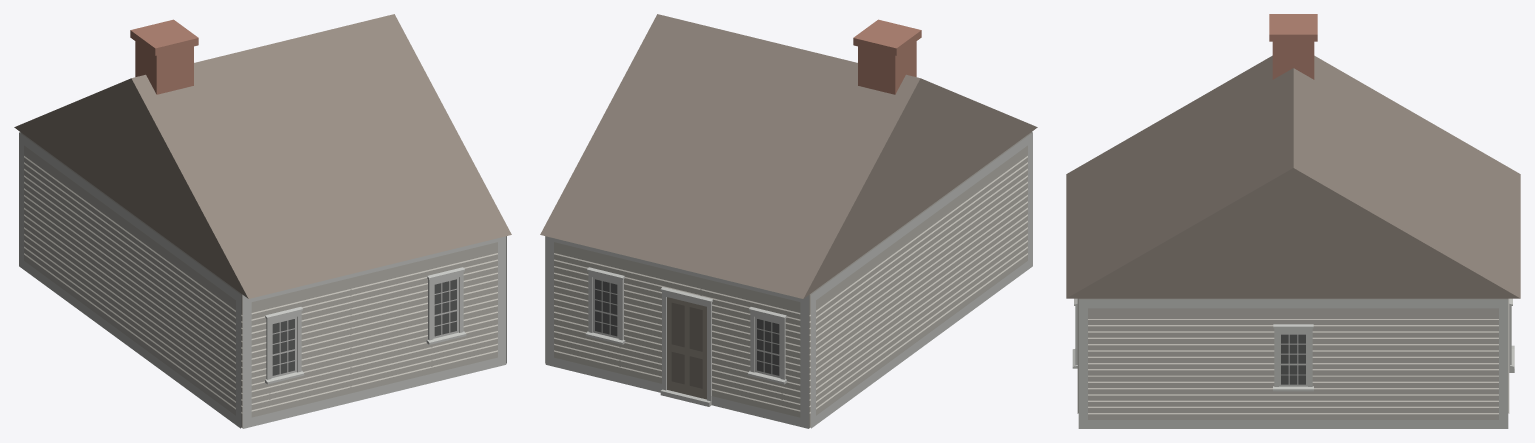
File: recon_1835_blk_washington_clinton_d4_04__inferred_1835.glb
The picture shows the model from 3 angles, left to right: view 1: azimuth 30°, elevation 25°; view 2: azimuth 150°, elevation 25°; view 3: azimuth 270°, elevation 25°; orthographic projection. The views are drawn at different scales.
Visible parts, largest first — view 1: recon_1835_blk_washington_clinton_d4_04__inferred_1835; view 2: recon_1835_blk_washington_clinton_d4_04__inferred_1835; view 3: recon_1835_blk_washington_clinton_d4_04__inferred_1835.
Boxes of the visible parts, x1,y1,x2,y2 form: recon_1835_blk_washington_clinton_d4_04__inferred_1835: (14, 14, 511, 428); recon_1835_blk_washington_clinton_d4_04__inferred_1835: (540, 14, 1037, 428); recon_1835_blk_washington_clinton_d4_04__inferred_1835: (1066, 14, 1520, 428).
Bounding box in the file's own units: 6.1 × 6.58 × 9.18.
